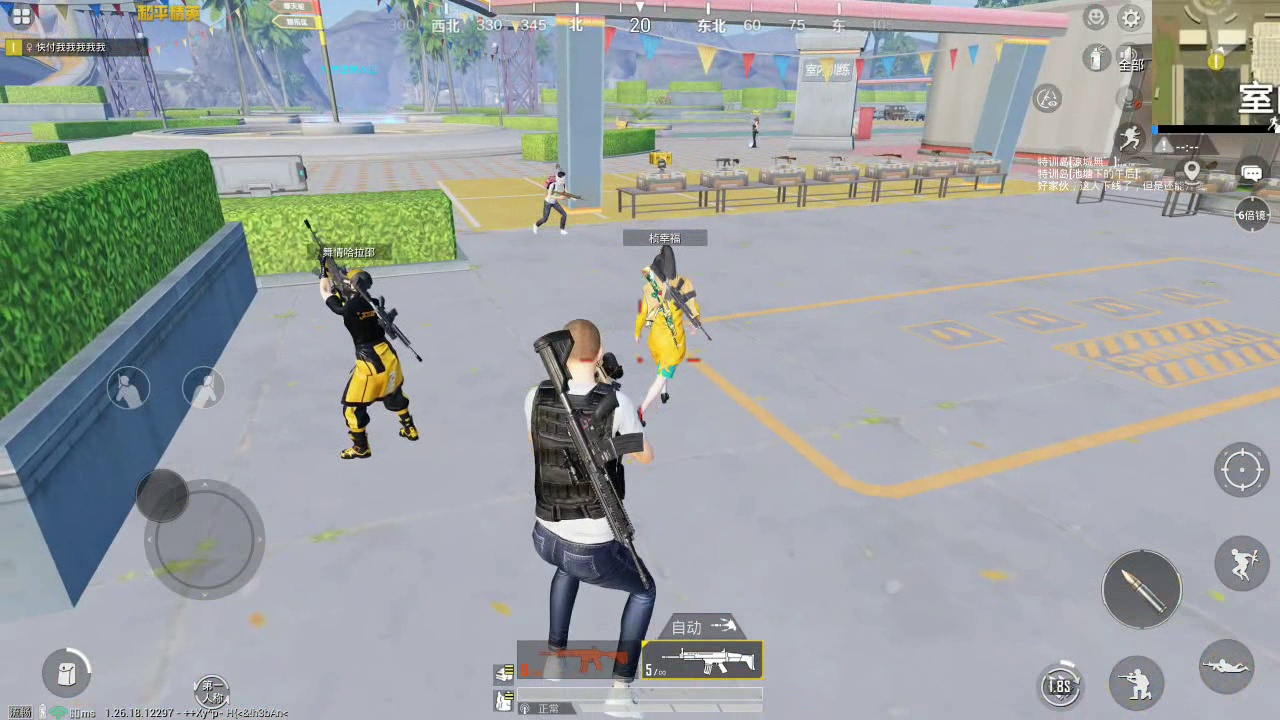enemy: (323, 272, 423, 458), (634, 243, 694, 423), (537, 169, 571, 233)
